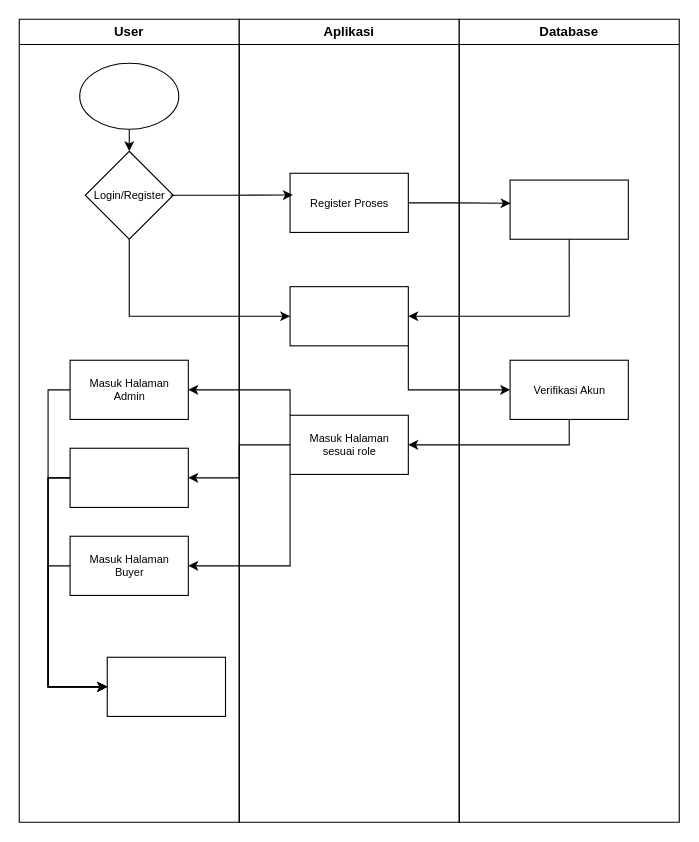
Image size: 699x842. Some labels were removed from this diagram. Here are the shapes that lost their labels. From the top down, the centre of each, then its label:
the point at 129,95: Open App
the point at 568,209: Simpan Data User Baru
the point at 348,316: Login Proses
the point at 128,477: Masuk Halaman Seller
the point at 166,686: Logout
